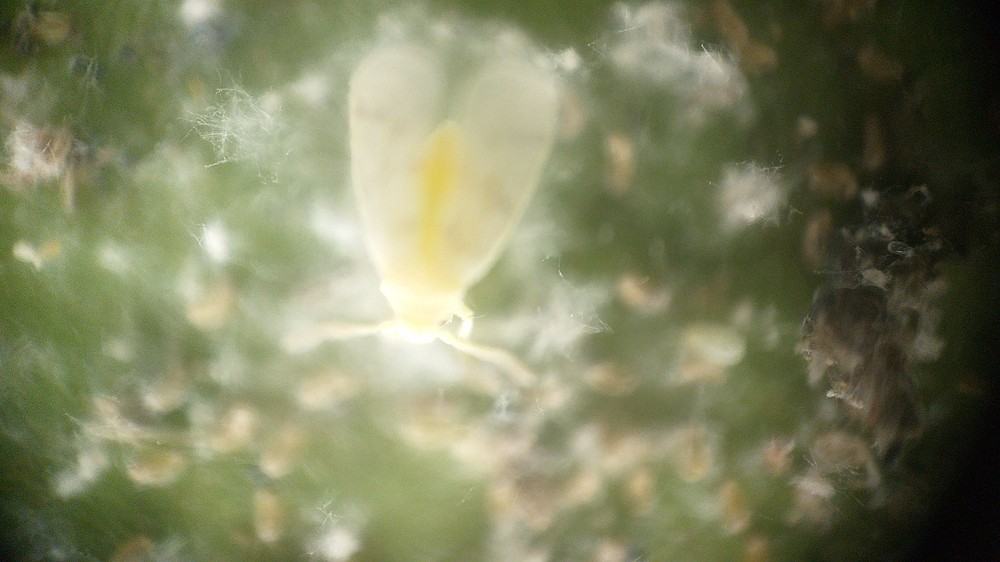Mosca Blanca: (287, 39, 597, 403)
